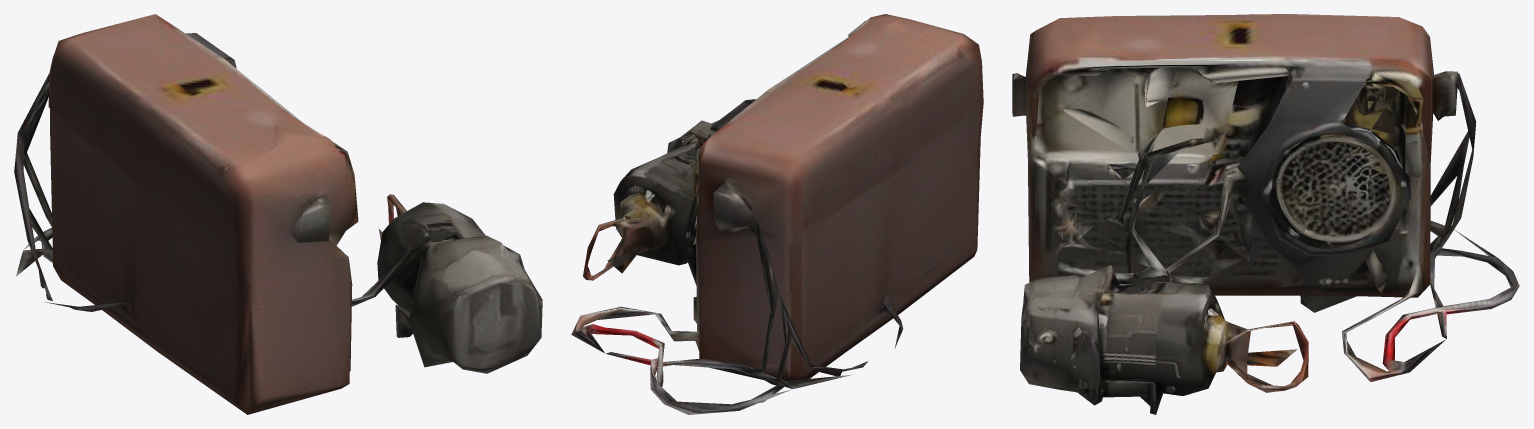
The model's file is qi_junk.glb.
The picture shows the model from 3 angles, left to right: view 1: azimuth 30°, elevation 25°; view 2: azimuth 150°, elevation 25°; view 3: azimuth 270°, elevation 25°; orthographic projection. The views are drawn at different scales.
Parts seen in each view (by area): view 1: tripo_node_37ca8952-00a1-49b6-9f18-05660d9c7a6b; view 2: tripo_node_37ca8952-00a1-49b6-9f18-05660d9c7a6b; view 3: tripo_node_37ca8952-00a1-49b6-9f18-05660d9c7a6b.
Part boxes in pixels (left/top/right/bottom): tripo_node_37ca8952-00a1-49b6-9f18-05660d9c7a6b: left=14, top=14, right=542, bottom=414; tripo_node_37ca8952-00a1-49b6-9f18-05660d9c7a6b: left=571, top=14, right=983, bottom=414; tripo_node_37ca8952-00a1-49b6-9f18-05660d9c7a6b: left=1012, top=14, right=1519, bottom=414.
Bounding box in the file's own units: 0.8181 × 0.5936 × 1.
1 material, 1 textured.
